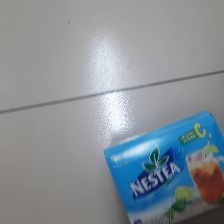Nestea: (103, 108, 224, 224)
